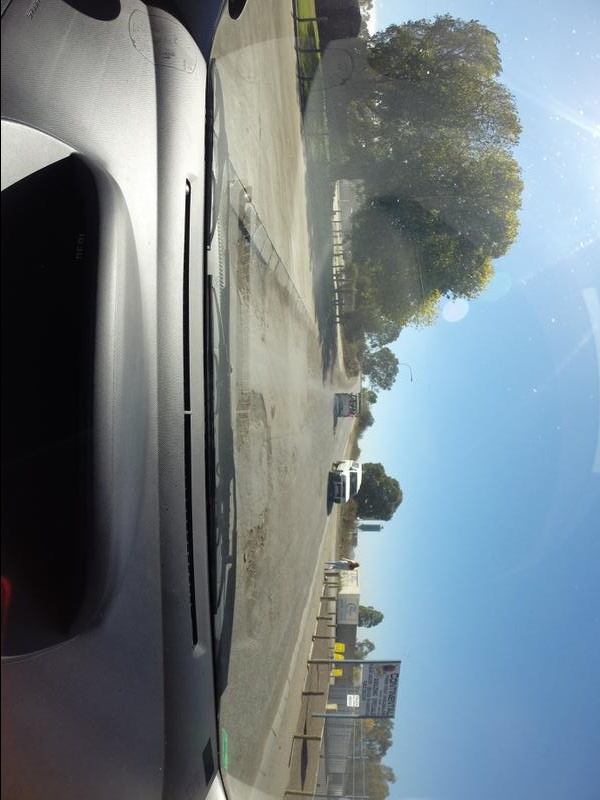pothole: (234, 517, 280, 586), (233, 382, 277, 453), (224, 241, 264, 317)
